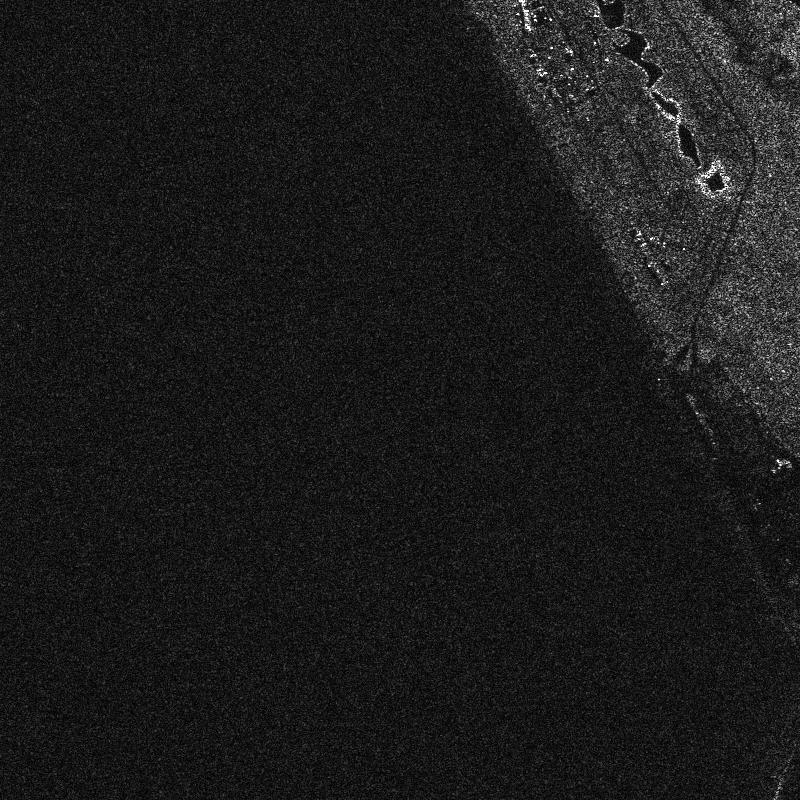land: (544, 14, 784, 129), (635, 146, 790, 305), (667, 318, 794, 438)
sea: (51, 177, 627, 774)
